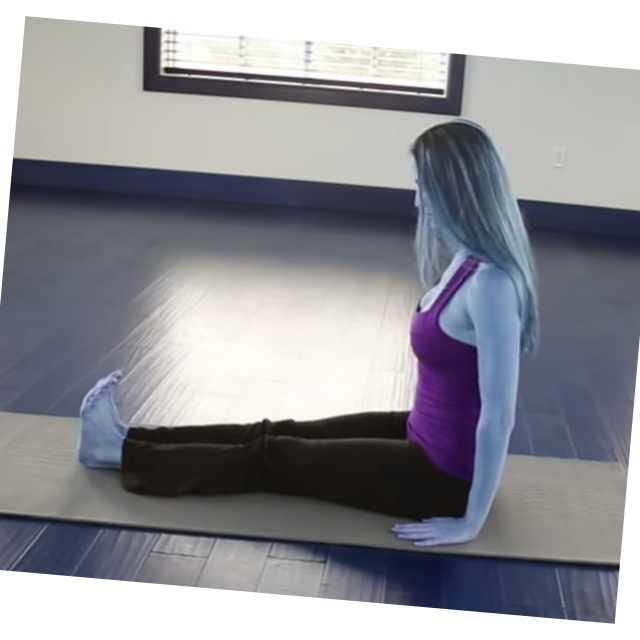Staff_Pose: (72, 118, 533, 551)
